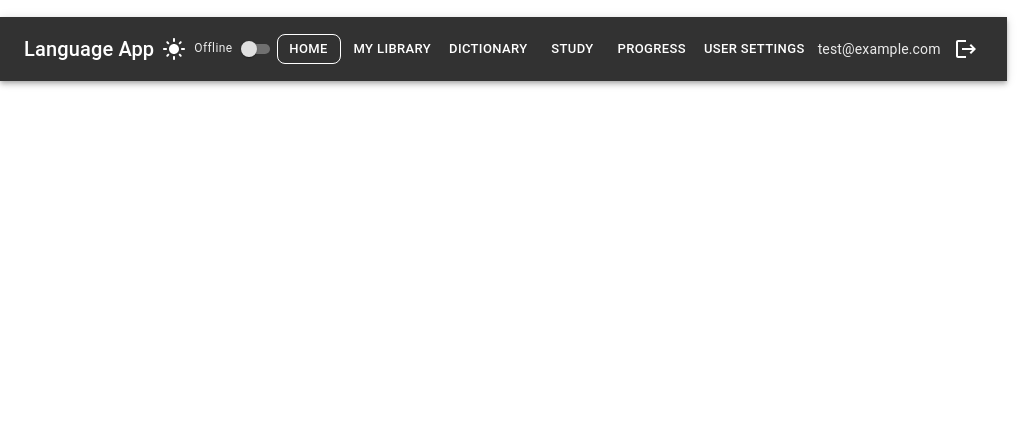
Test case: Navbar › shows failure snackbar when offline toggle ON and sync fails
The width and height of the screenshot is (1024, 433).
Click the switch.
click(248, 49)  # box [240,41,256,57]
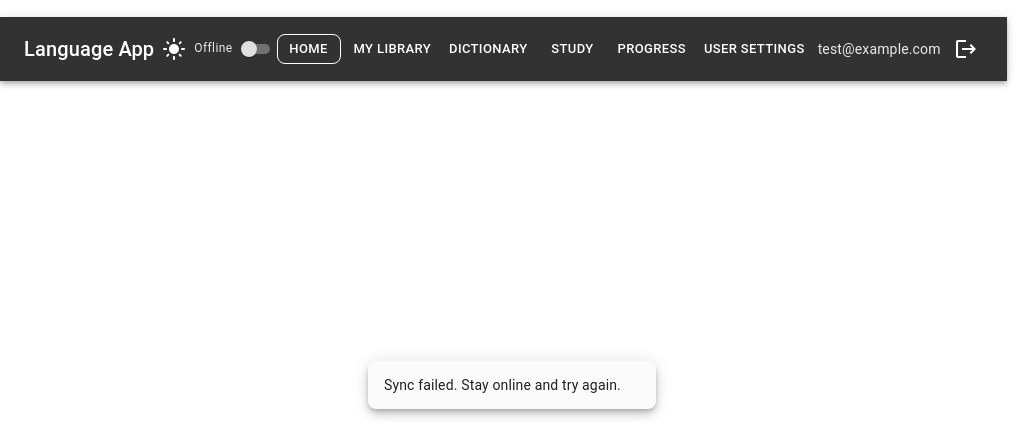
expect the text "Sync failed. Stay online and try again." is shown: met, box [384,377,621,393]
